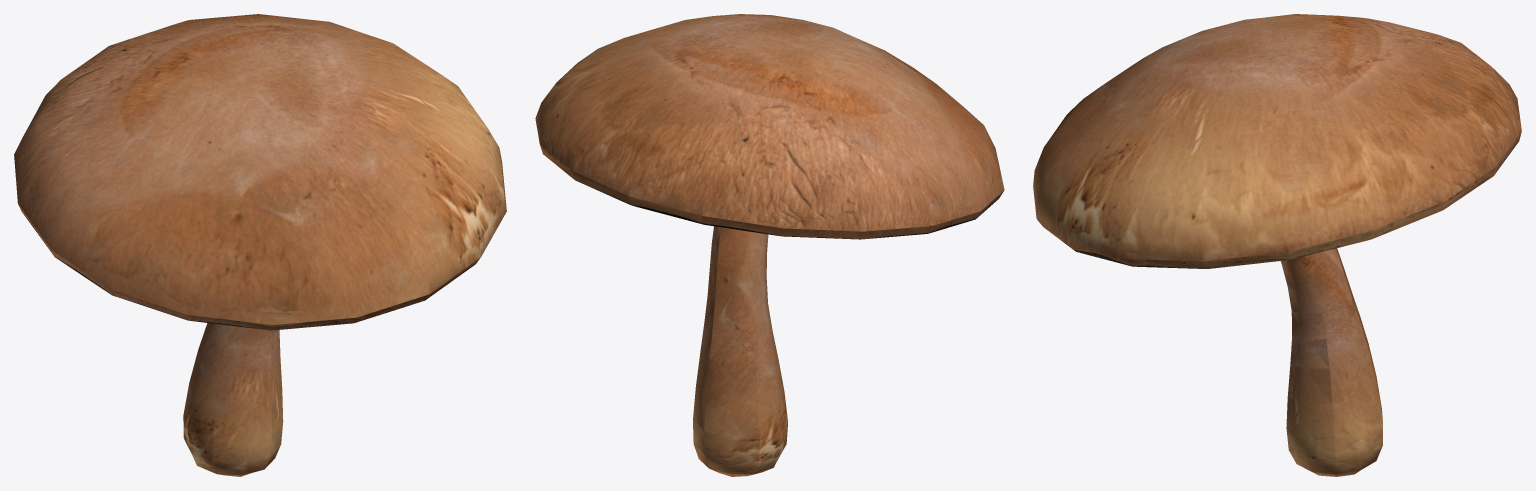
Rendered from MushroomBrownMedium_LOD0.obj.
3 renders of one model, left to right at view 1: azimuth 30°, elevation 25°; view 2: azimuth 150°, elevation 25°; view 3: azimuth 270°, elevation 25°, orthographic. The views are drawn at different scales.
Visible parts, largest first — view 1: MushroomBrownMedium_LOD0; view 2: MushroomBrownMedium_LOD0; view 3: MushroomBrownMedium_LOD0.
Part boxes in pixels (<box>): MushroomBrownMedium_LOD0: <box>14,14,506,476</box>; MushroomBrownMedium_LOD0: <box>535,14,1004,476</box>; MushroomBrownMedium_LOD0: <box>1033,14,1521,476</box>.
Size of the model in its own units: 0.2263 by 0.2161 by 0.2224.
